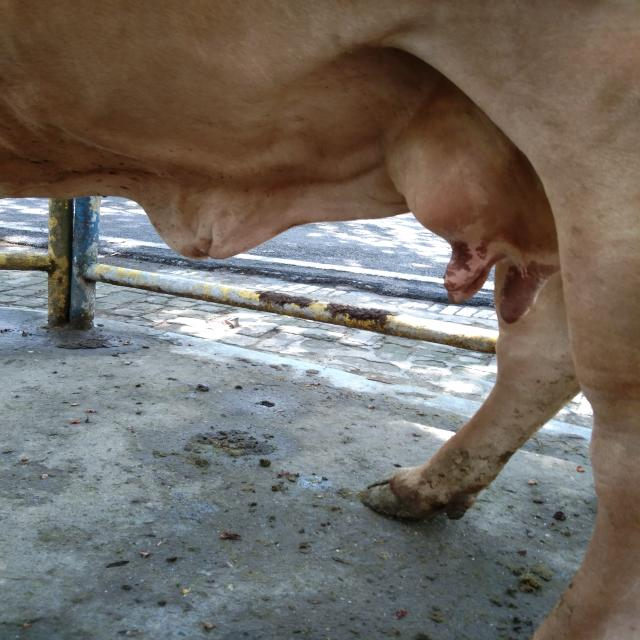Hoof: (359, 466, 473, 522)
